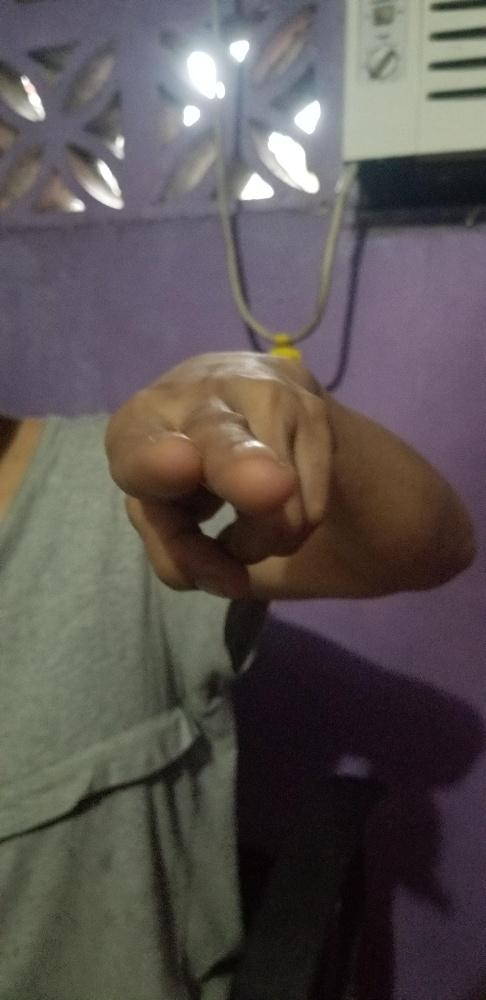n: (102, 345, 335, 597)
